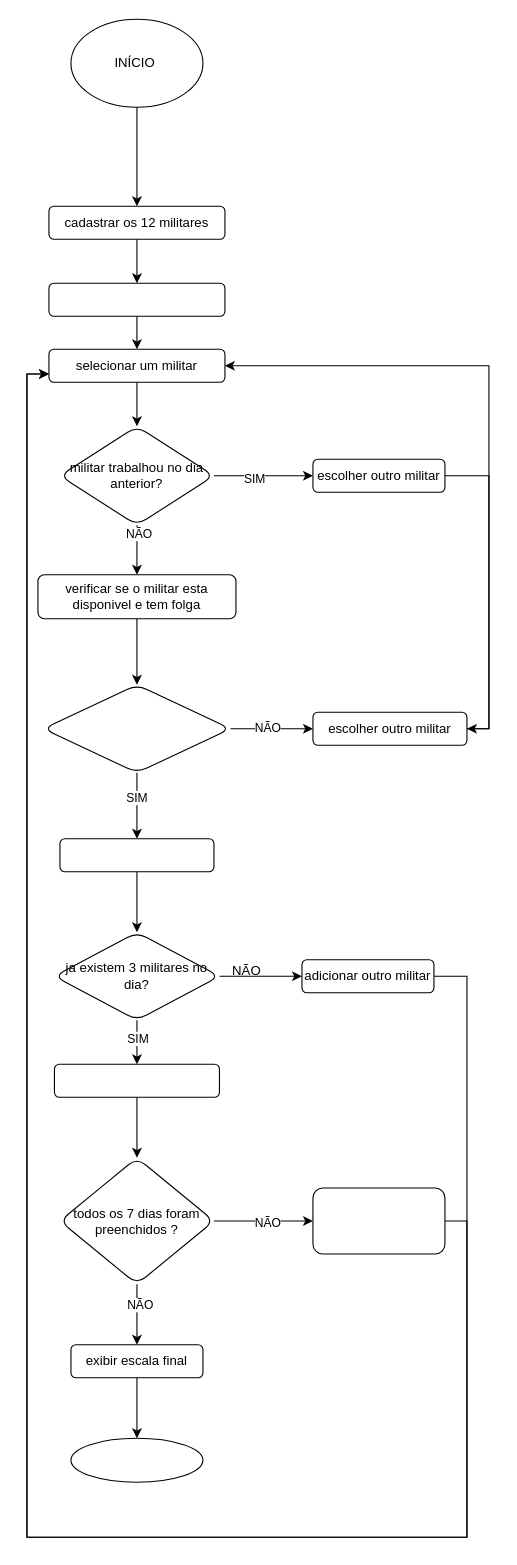
This 517x1565 diagram has some shape labels left out. Here are the shapes that lost their labels. From the top down, the box of each, then its label:
(48, 282, 225, 316): cadastrar os 7 dias
(42, 684, 230, 773): militar disponivel e com mais folgas?
(59, 838, 214, 872): colocar militar na escala
(53, 1063, 219, 1097): passar para o proximo dia
(312, 1187, 445, 1254): voltar para selecionar o militar
(70, 1437, 203, 1482): FIM
